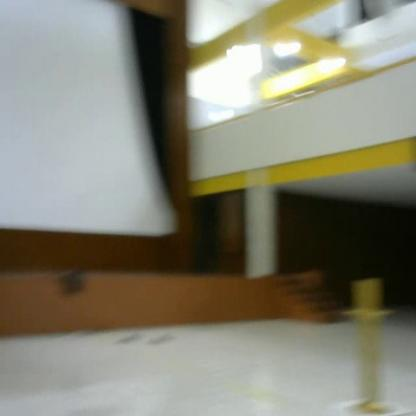pole: (342, 275, 404, 416)
